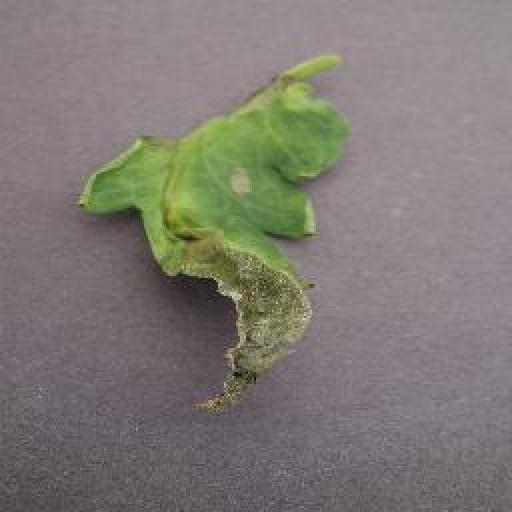disease_tomato: (72, 56, 352, 412)
